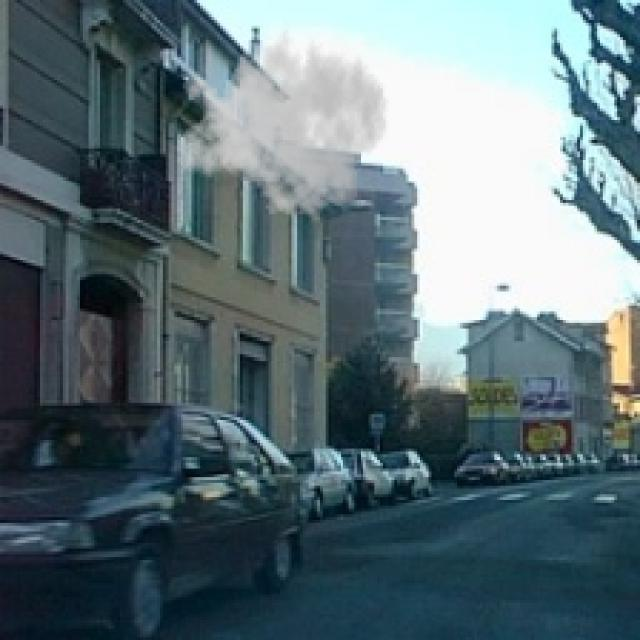Smoke: (174, 20, 389, 229)
